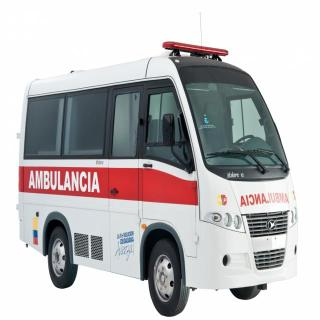Ambulance: (8, 24, 296, 302)
